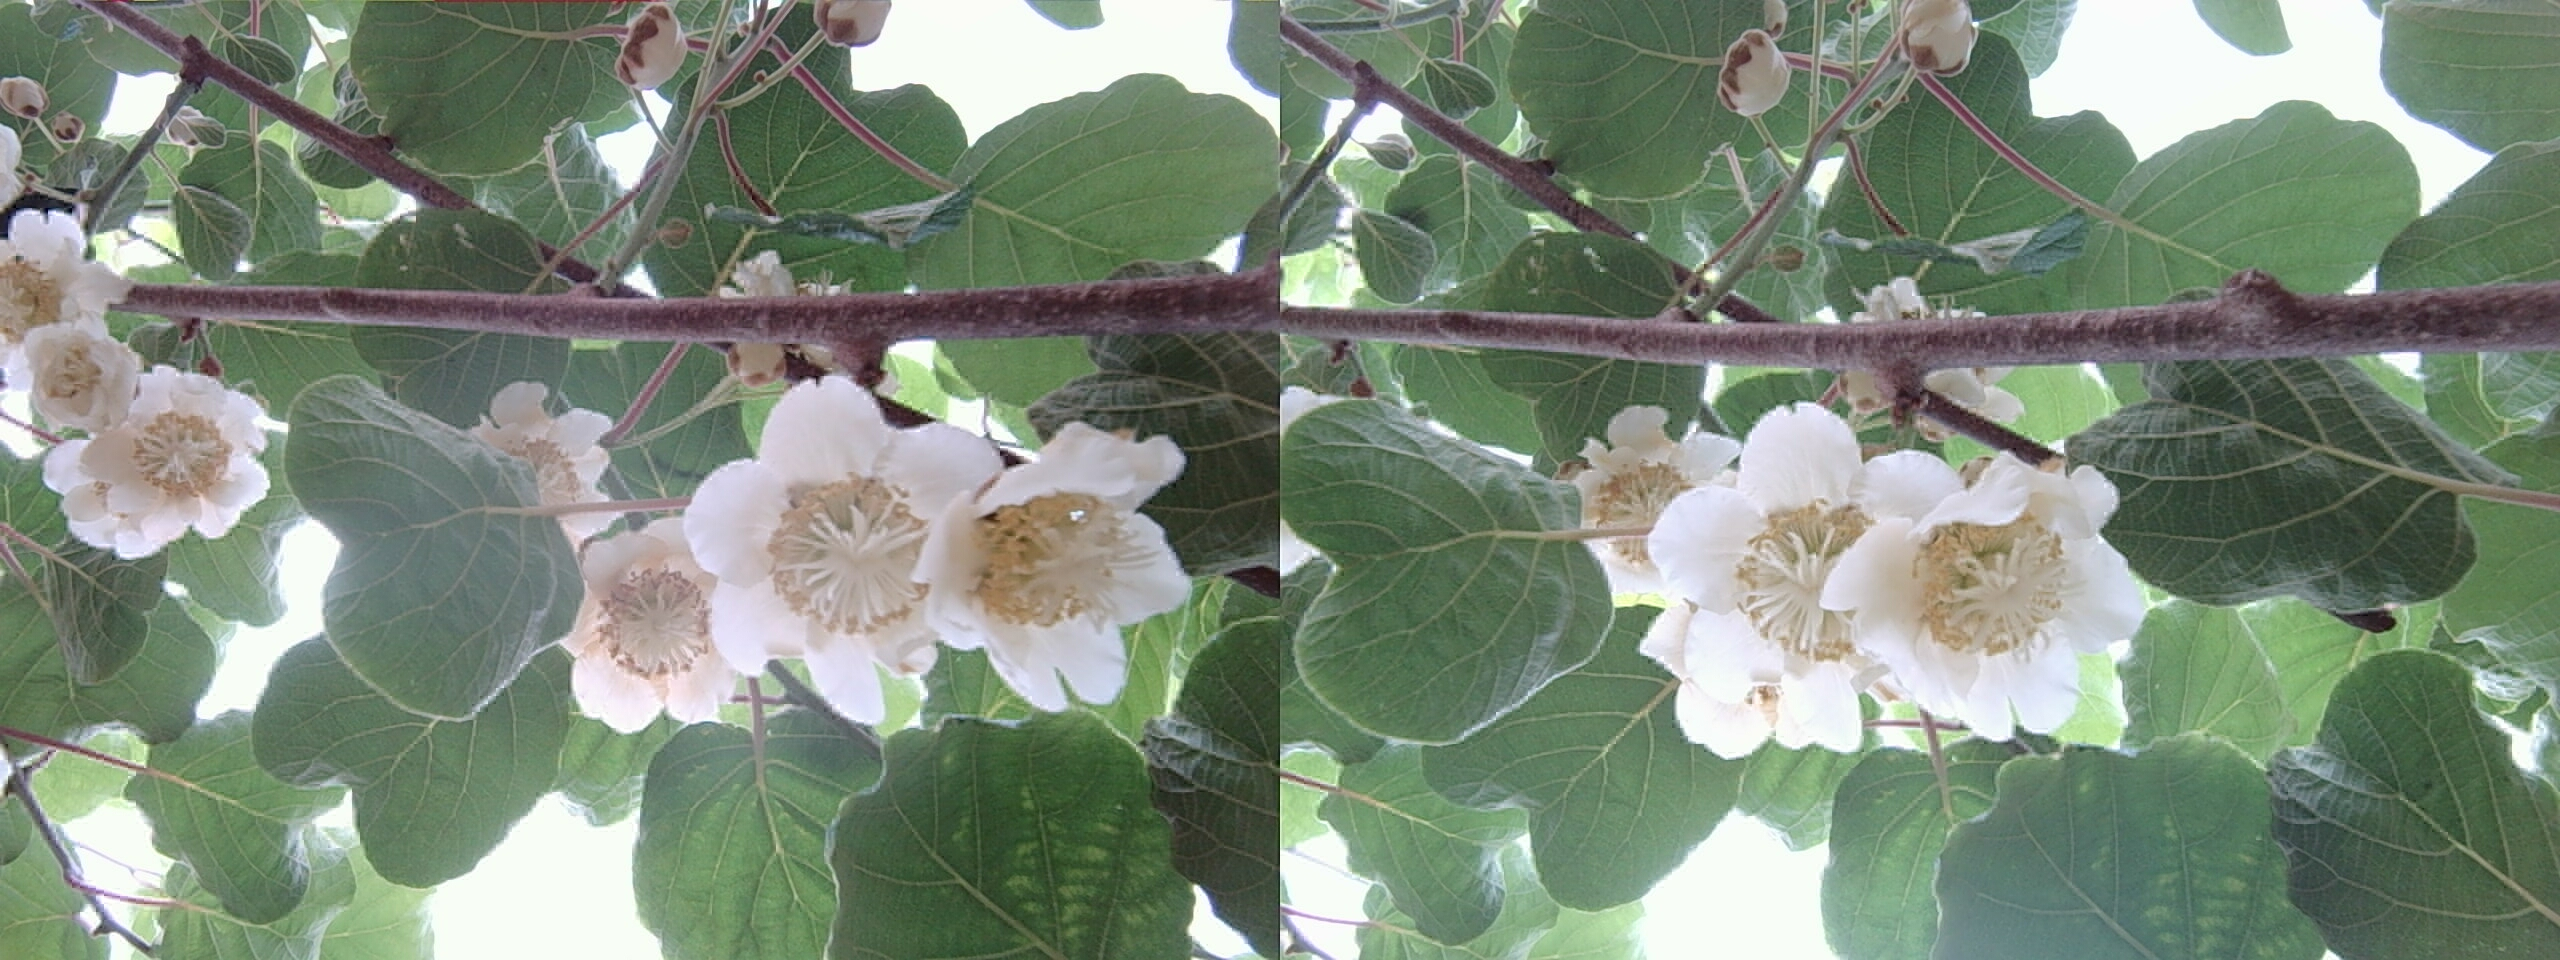flower: (686, 371, 984, 717), (1833, 446, 2145, 741), (911, 429, 1189, 702), (1672, 411, 1917, 699), (21, 343, 287, 567), (547, 506, 753, 735), (1549, 411, 1721, 549), (0, 212, 140, 358), (473, 384, 627, 508), (15, 325, 145, 429)
